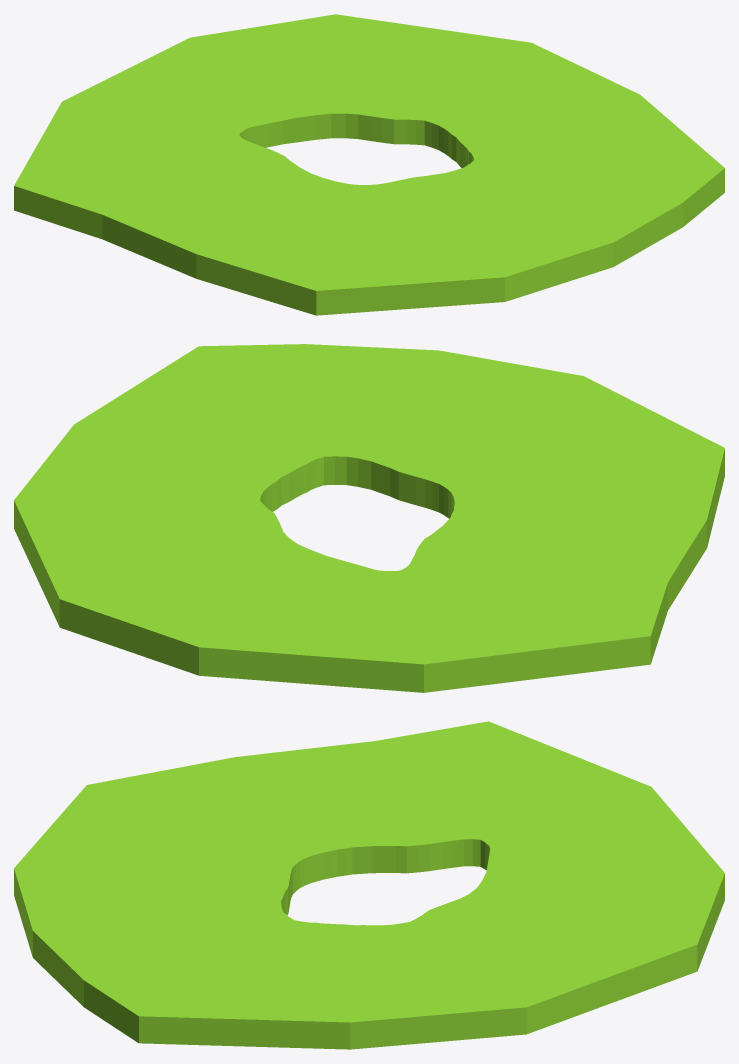
The model's file is Green_platform.glb.
The picture shows the model from 3 angles, top to bottom: view 1: azimuth 30°, elevation 25°; view 2: azimuth 150°, elevation 25°; view 3: azimuth 270°, elevation 25°; orthographic projection. The views are drawn at different scales.
Parts seen in each view (by area): view 1: Green_platform; view 2: Green_platform; view 3: Green_platform.
Part boxes in pixels (x1=…): Green_platform: x1=14, y1=14, x2=724, y2=315; Green_platform: x1=14, y1=344, x2=724, y2=692; Green_platform: x1=14, y1=721, x2=724, y2=1049.
Size of the model in its own units: 10.36 by 0.4342 by 10.34.
